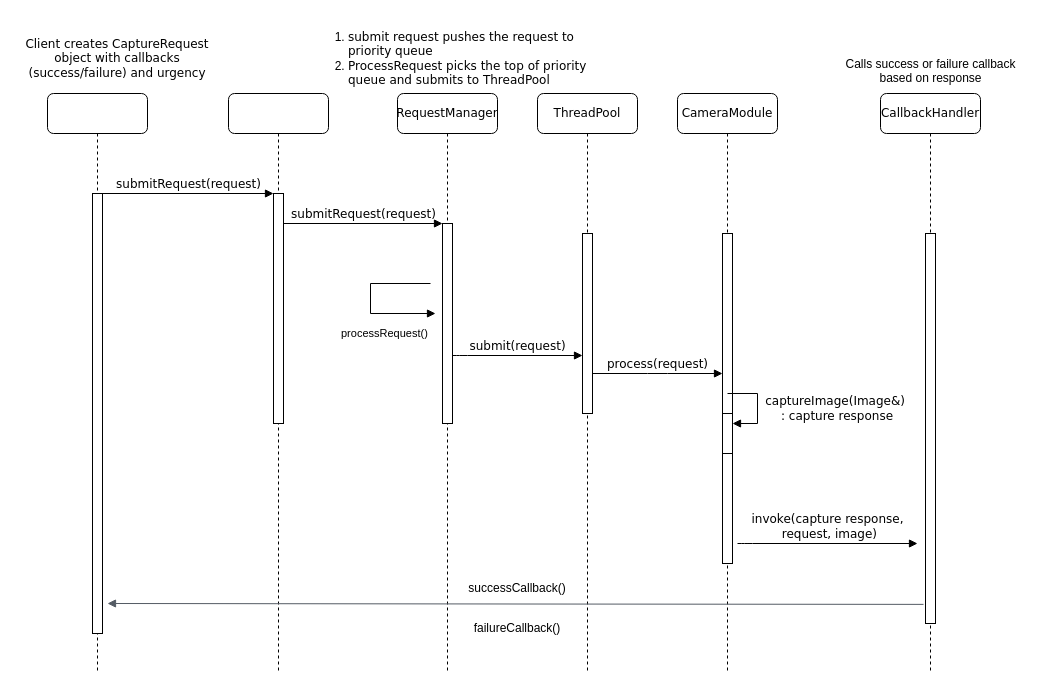
Some shapes in this 1046 by 691 pixel diagram are drawn without their labels. Each missing label, with the box of its shape:
CameraSystem: (228, 92, 328, 674)
clients: (46, 92, 148, 674)
